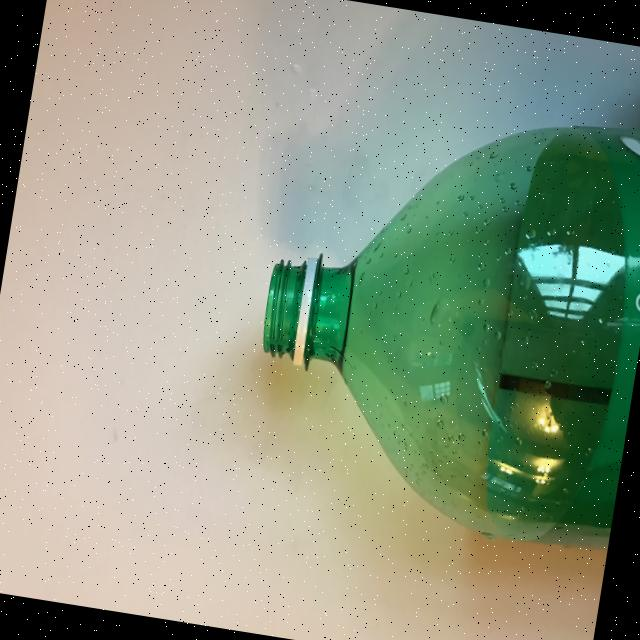plastic: (235, 73, 640, 558)
